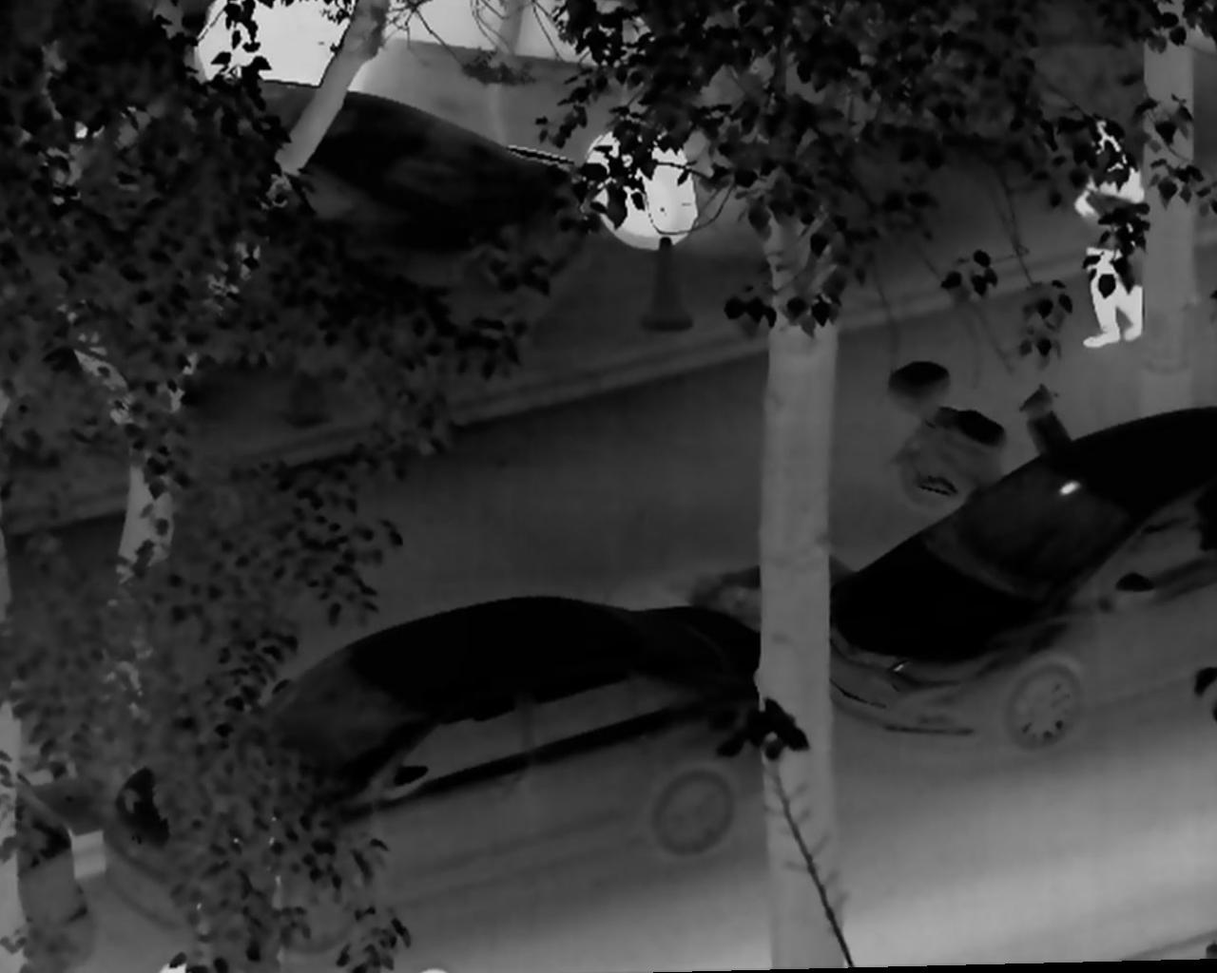person: (1076, 122, 1147, 352)
